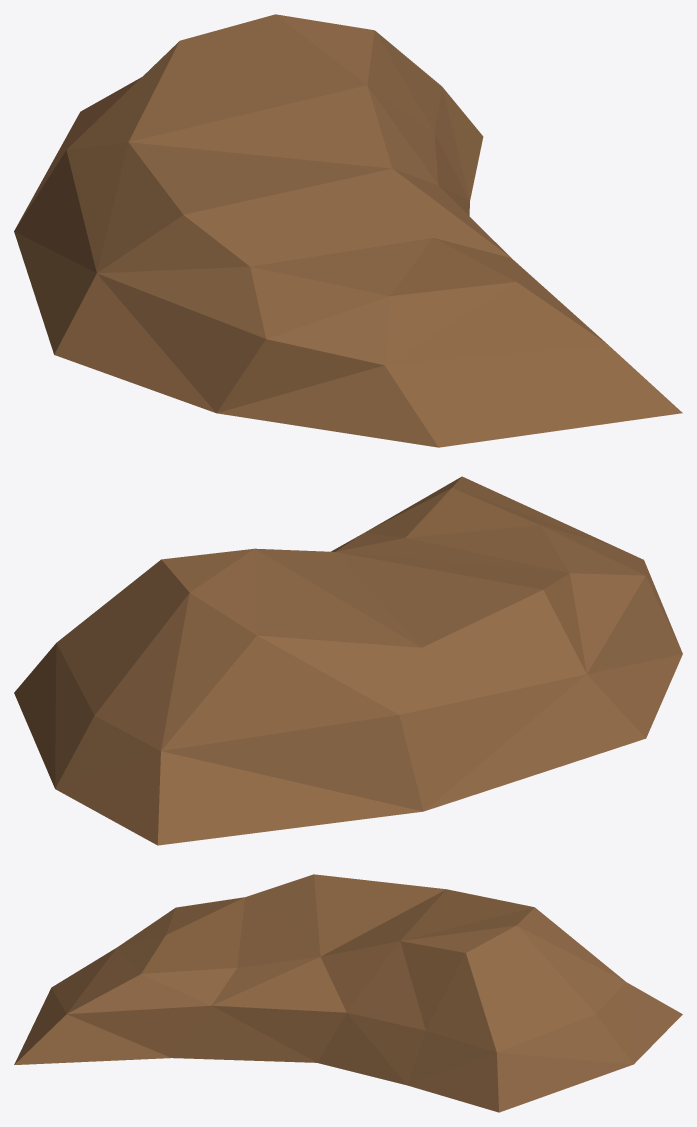
File: Rock_7_Light_Brown.fbx
3 views of the same model, one above another, from view 1: azimuth 30°, elevation 25°; view 2: azimuth 150°, elevation 25°; view 3: azimuth 270°, elevation 25° (orthographic). The views are drawn at different scales.
Parts seen in each view (by area): view 1: Rock_7_Light_Brown; view 2: Rock_7_Light_Brown; view 3: Rock_7_Light_Brown.
Boxes of the visible parts, bbox=[...] form: Rock_7_Light_Brown: bbox=[14, 14, 682, 447]; Rock_7_Light_Brown: bbox=[14, 476, 682, 845]; Rock_7_Light_Brown: bbox=[14, 874, 682, 1112].
Bounding box in the file's own units: 228 × 64.34 × 332.
